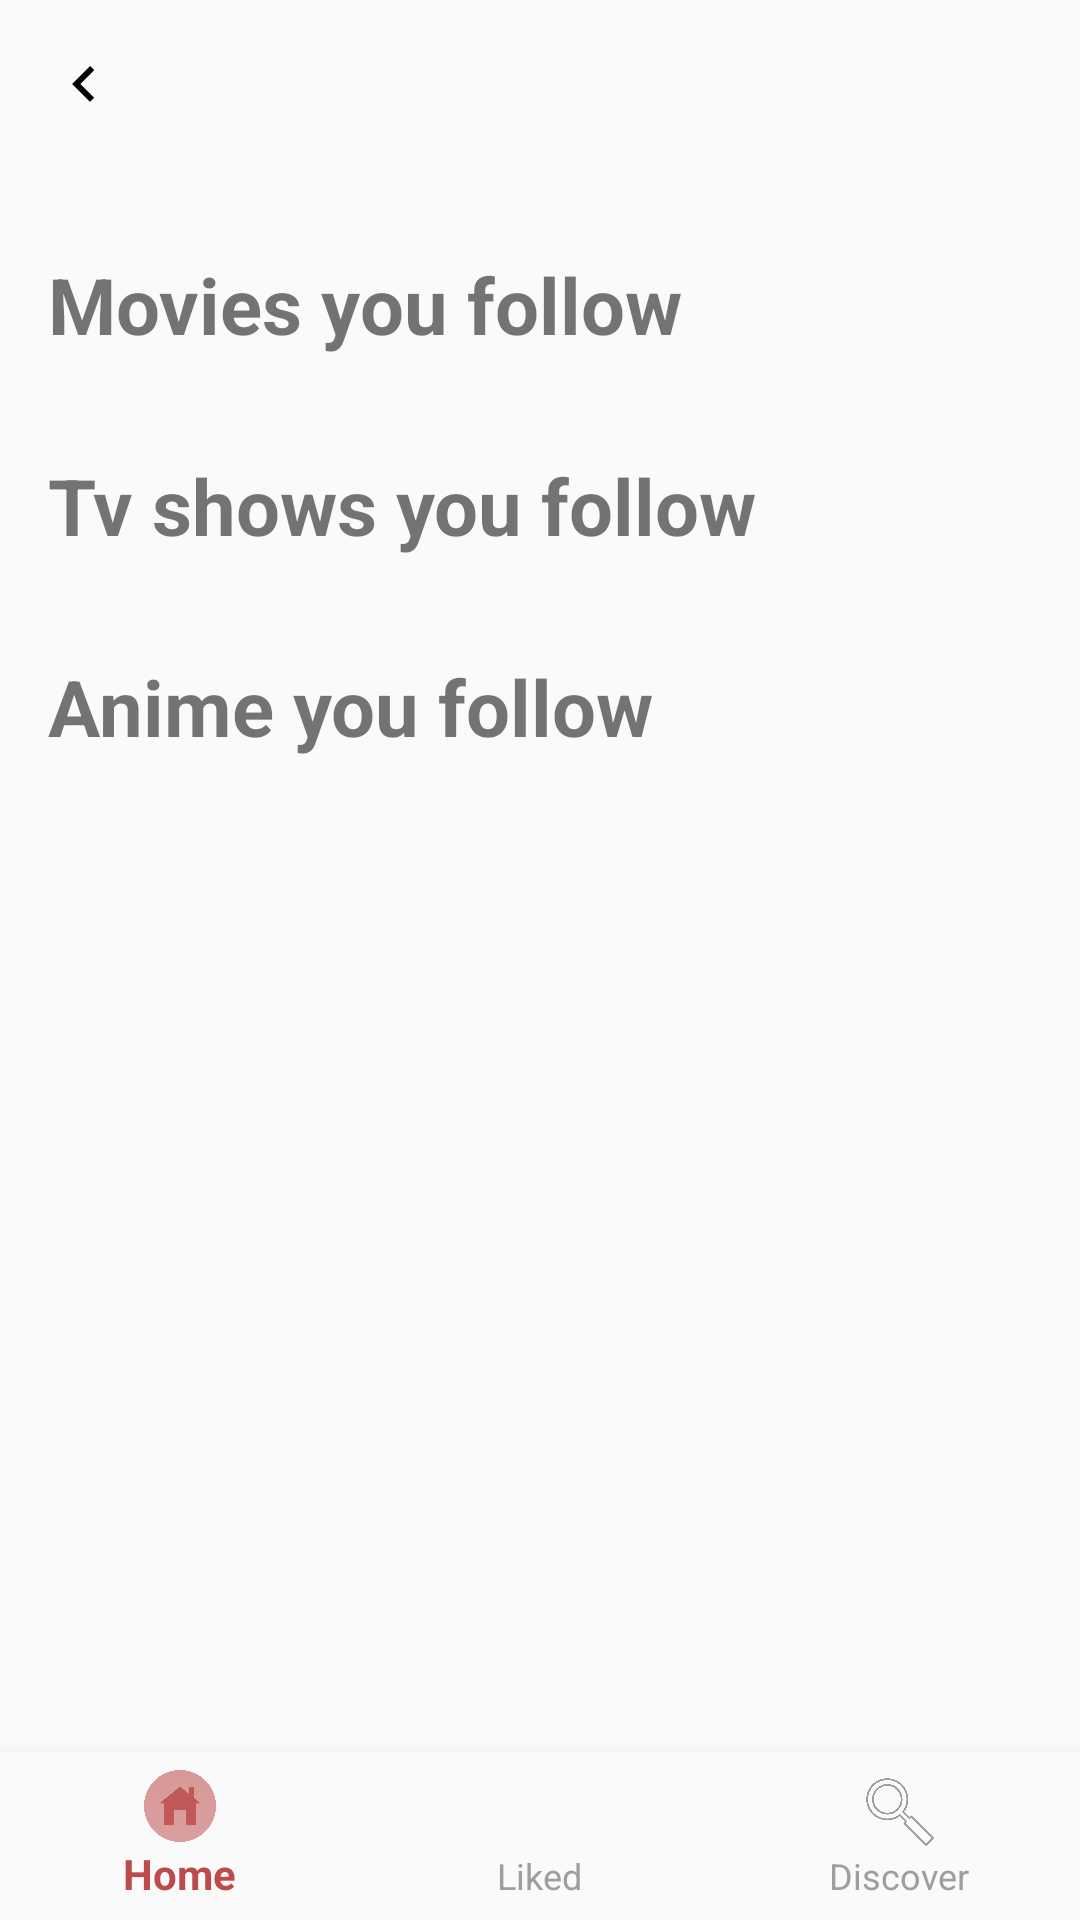

Where icons sit on this 1080 x 1920 app screen, as rect(x1, y1, x2, y2):
arrow back: rect(72, 66, 94, 102)
